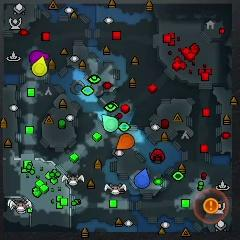Other: (203, 197, 219, 214)
p1: (134, 168, 151, 189)
p2: (103, 115, 119, 132)
p3: (30, 50, 49, 63)
p4: (32, 56, 48, 76)
p5: (116, 133, 135, 149)
